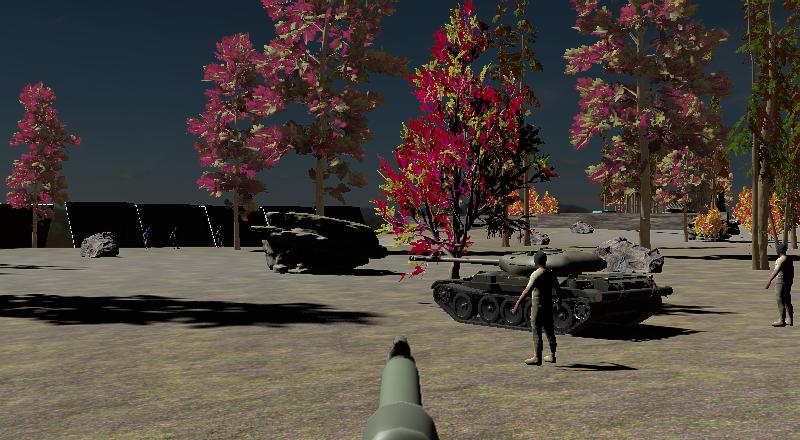Human: (511, 249, 564, 368), (764, 240, 796, 330)
Tank: (407, 242, 676, 335)
